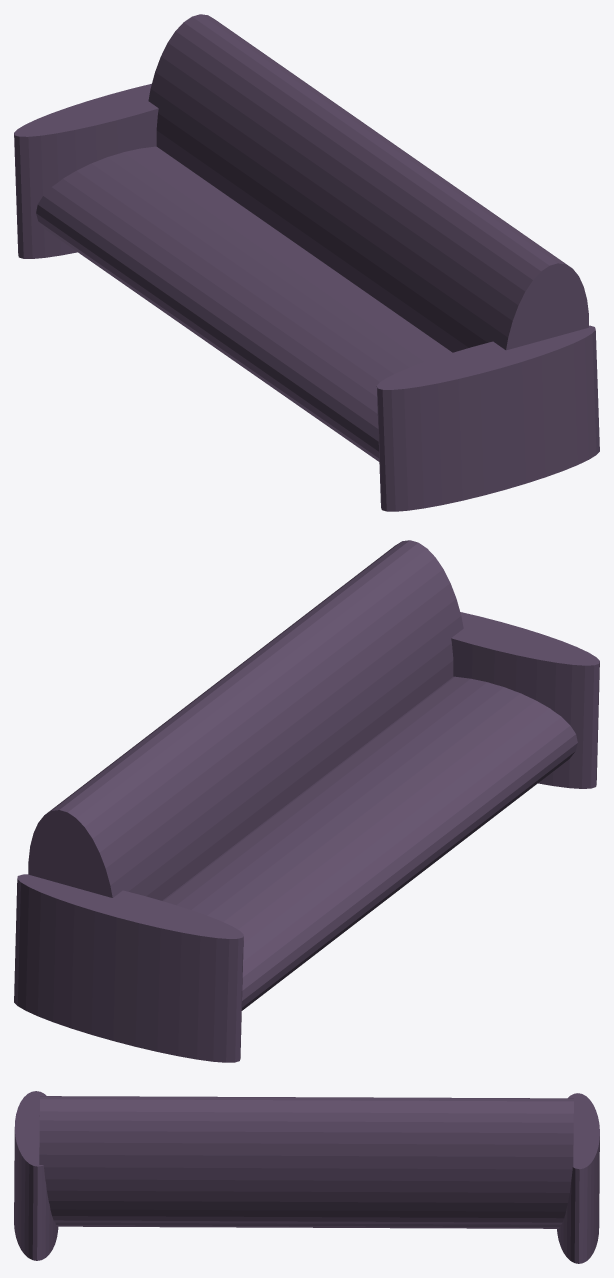
Rendered from bank.fbx.
The picture shows the model from 3 angles, top to bottom: view 1: azimuth 30°, elevation 25°; view 2: azimuth 150°, elevation 25°; view 3: azimuth 270°, elevation 25°; orthographic projection. The views are drawn at different scales.
Parts seen in each view (by area): view 1: Cylinder.014; view 2: Cylinder.014; view 3: Cylinder.014.
Boxes of the visible parts, <box> form: Cylinder.014: <box>14,14,599,511</box>; Cylinder.014: <box>14,540,599,1062</box>; Cylinder.014: <box>14,1091,599,1263</box>.
Size of the model in its own units: 221 by 191 by 645.
